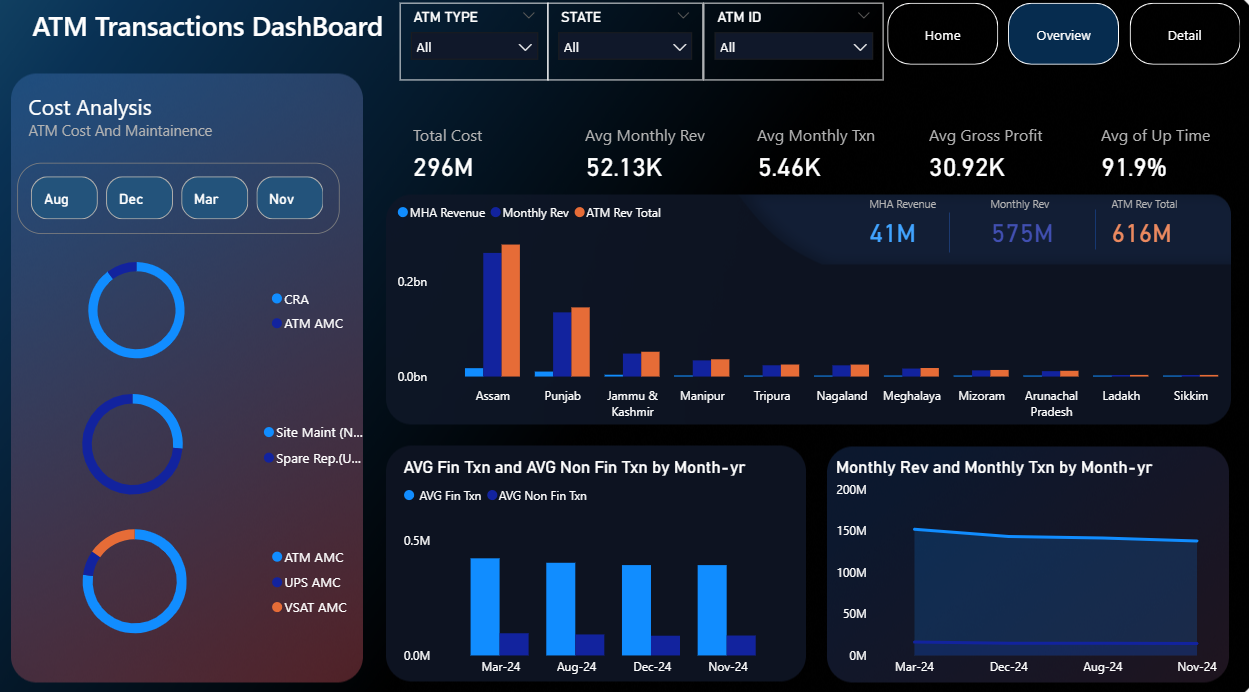

This screenshot's page, from the dashboard's own definition file:
{"tool":"powerbi","page":{"name":"Overview","canvas":[1280,720],"ordinal":1},"visuals":[{"type":"donutChart","fields":{"Y":["Sum(DataSet.ATM AMC)","Sum(DataSet.UPS AMC)","Sum(DataSet.VSAT AMC)"]},"box":[12.3,522.8,367.8,140],"z":0},{"type":"donutChart","fields":{"Y":["Sum(DataSet.CRA)","Sum(DataSet.ATM AMC)"]},"box":[16.5,256.6,360.9,130.4],"z":1000},{"type":"donutChart","fields":{"Y":["Sum(DataSet.Site Maint (Non Asset))","Sum(DataSet.Spare Rep.(UPS))"]},"box":[16.5,387,382.8,135.8],"z":2000},{"type":"clusteredColumnChart","fields":{"Y":["Sum(DataSet.MHA Revenue)","Sum(DataSet.Monthly Rev)","Sum(DataSet.ATM Rev Total)"],"Category":["DataSet.STATE"]},"box":[410.8,204.2,860,235],"z":3000},{"type":"areaChart","title":"Monthly Rev and Monthly Txn by Month-yr","fields":{"Category":["DataSet.Month-y"],"Y":["Sum(DataSet.Monthly Rev)","Sum(DataSet.Monthly Txn)"]},"box":[849.4,467.9,408.9,229.2],"z":4000},{"type":"clusteredColumnChart","title":" AVG Fin Txn and AVG Non Fin Txn by Month-yr","fields":{"Y":["Sum(DataSet.AVG Fin Txn)","Sum(DataSet.AVG Non Fin Txn)"],"Category":["DataSet.Month-y"]},"box":[417.2,467.9,395.2,229.2],"z":5000},{"type":"advancedSlicerVisual","fields":{"Values":["DataSet.Short_Month"]},"box":[35.7,174.3,322.5,71.4],"z":6000},{"type":"textbox","box":[42.5,97.4,306,76.8],"z":7000},{"type":"cardVisual","fields":{"Data":["Sum(DataSet. Total Cost  )","Avg(DataSet.Monthly Rev)","Avg(DataSet.Monthly Txn)","Avg(DataSet. Gross Profit )","Avg(DataSet.Up Time)"]},"box":[414.7,117.8,865,85.9],"z":8000},{"type":"cardVisual","fields":{"Data":["Sum(DataSet.MHA Revenue)","Sum(DataSet.Monthly Rev)","Sum(DataSet.ATM Rev Total)"]},"box":[871.4,174.3,365,119.4],"z":9000},{"type":"pageNavigator","box":[905.6,13.9,353.3,62.3],"z":10000},{"type":"textbox","box":[46.7,13.7,446,63.1],"z":11000},{"type":"slicer","fields":{"Values":["DataSet.ATM TYPE"]},"box":[419.1,13.9,148.9,77.9],"z":12000},{"type":"slicer","fields":{"Values":["DataSet.ATM id"]},"box":[722.1,13.9,180.1,77.9],"z":13000},{"type":"slicer","fields":{"Values":["DataSet.STATE"]},"box":[566.2,13.9,155.8,77.9],"z":14000}]}

Visuals, with their boxes in screenshot pixels (x1, y1, x2, y2), scaled from the page's 1280x720 canvas onto the 1249x692 screenshot:
donutChart - Sum(DataSet.ATM AMC) x Sum(DataSet.UPS AMC): x1=12 y1=502 x2=371 y2=637
donutChart - Sum(DataSet.CRA) x Sum(DataSet.ATM AMC): x1=16 y1=247 x2=368 y2=372
donutChart - Sum(DataSet.Site Maint (Non Asset)) x Sum(DataSet.Spare Rep.(UPS)): x1=16 y1=372 x2=390 y2=502
clusteredColumnChart - Sum(DataSet.MHA Revenue) x Sum(DataSet.Monthly Rev): x1=401 y1=196 x2=1240 y2=422
"Monthly Rev and Monthly Txn by Month-yr" areaChart: x1=829 y1=450 x2=1228 y2=670
" AVG Fin Txn and AVG Non Fin Txn by Month-yr" clusteredColumnChart: x1=407 y1=450 x2=793 y2=670
advancedSlicerVisual - DataSet.Short_Month: x1=35 y1=168 x2=350 y2=236
textbox: x1=41 y1=94 x2=340 y2=167
cardVisual - Sum(DataSet. Total Cost  ) x Avg(DataSet.Monthly Rev): x1=405 y1=113 x2=1248 y2=196
cardVisual - Sum(DataSet.MHA Revenue) x Sum(DataSet.Monthly Rev): x1=850 y1=168 x2=1206 y2=282
pageNavigator: x1=884 y1=13 x2=1228 y2=73
textbox: x1=46 y1=13 x2=481 y2=74
slicer - DataSet.ATM TYPE: x1=409 y1=13 x2=554 y2=88
slicer - DataSet.ATM id: x1=705 y1=13 x2=880 y2=88
slicer - DataSet.STATE: x1=552 y1=13 x2=705 y2=88
